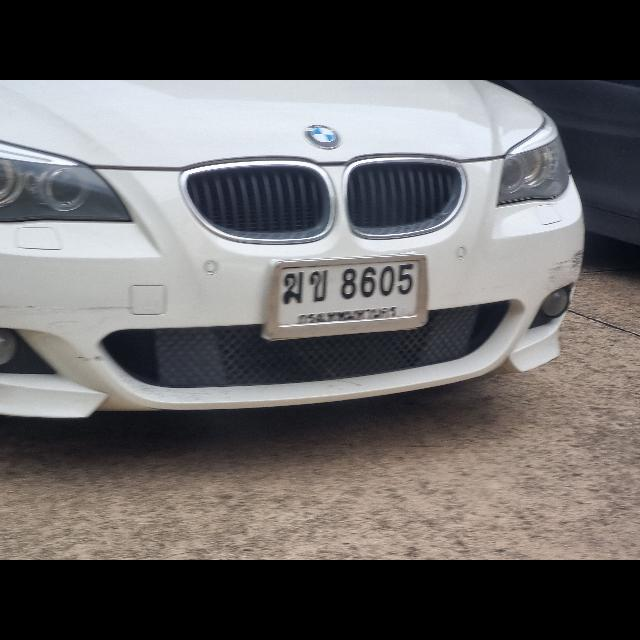licenseplate: (263, 256, 432, 342)
